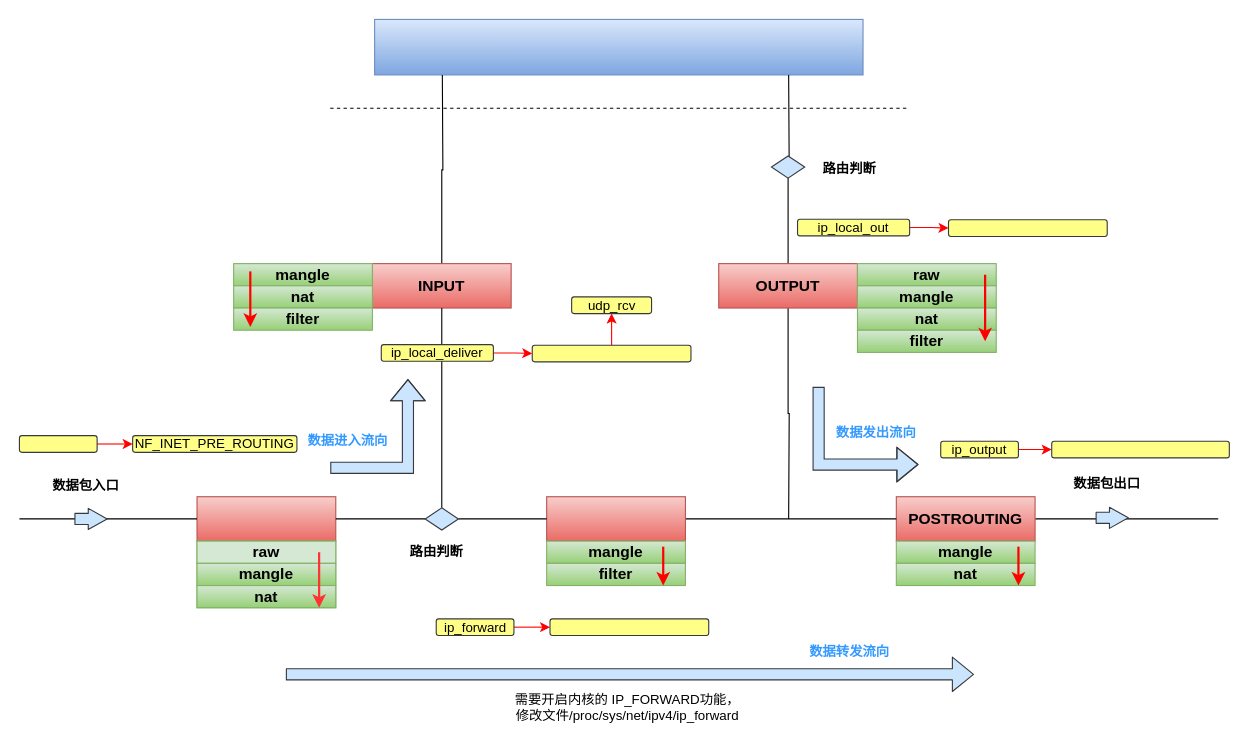
Image size: 1249x743. Some labels were removed from this diagram. Each missing label, with the centre of its shape:
"FORWARD" belongs at pixel 615 518.
"ip_rcv" belongs at pixel 57 443.
"NF_INET_FORWARD" belongs at pixel 629 626.
"NF_INET_LOCAL_IN" belongs at pixel 611 353.
"NF_INET_LOCAL_OUT" belongs at pixel 1027 227.
"NF_INET_POST_ROUTING" belongs at pixel 1140 449.
"PREROUTING" belongs at pixel 266 518.
"上层协议栈" belongs at pixel 618 46.
